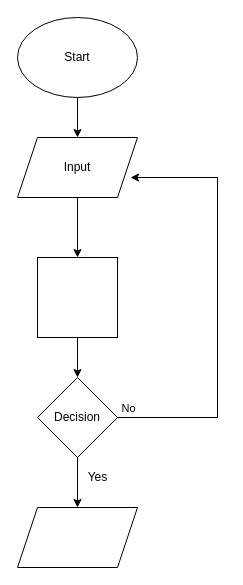
The diagram is 243 pixels wide and 585 high, and some of its shapes have lost their labels. The centre of each missing label's shape, as x and y in pixels:
"Output" goes at (x=77, y=537).
"Process" goes at (x=77, y=297).
